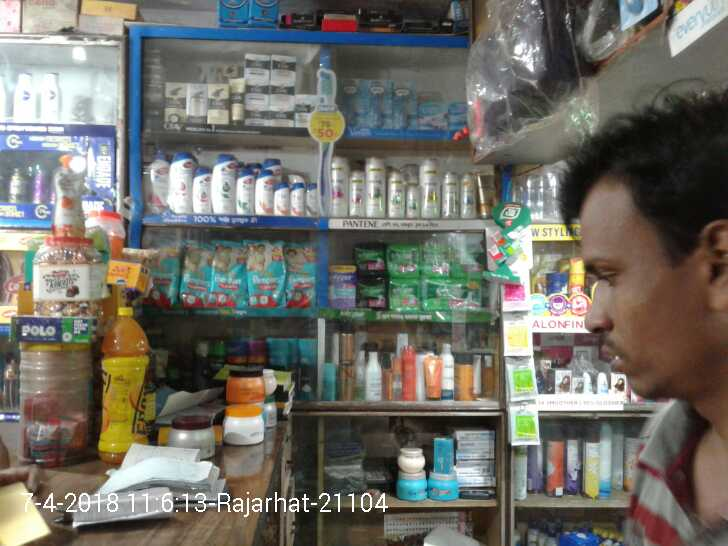venus: (341, 80, 366, 127), (393, 80, 416, 129), (369, 81, 391, 128), (419, 92, 447, 128), (449, 102, 467, 128)
